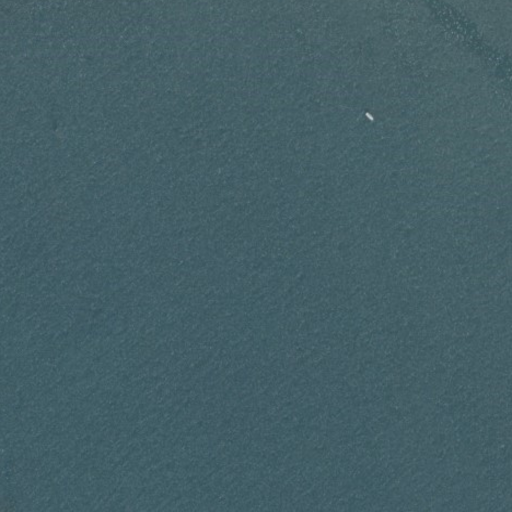ship: (361, 109, 377, 124)
